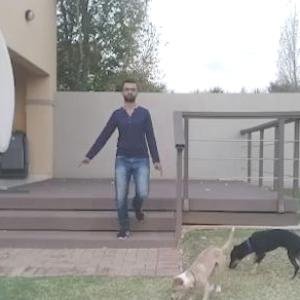land: (90, 83, 169, 233)
